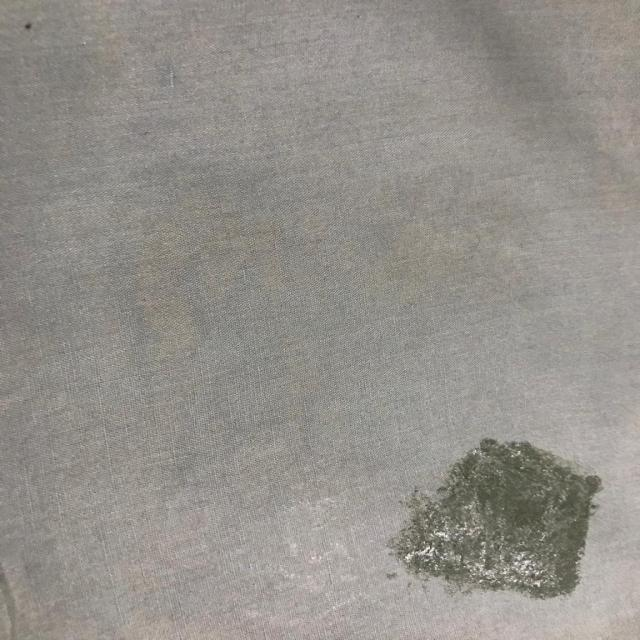Stain: (392, 439, 602, 599)
